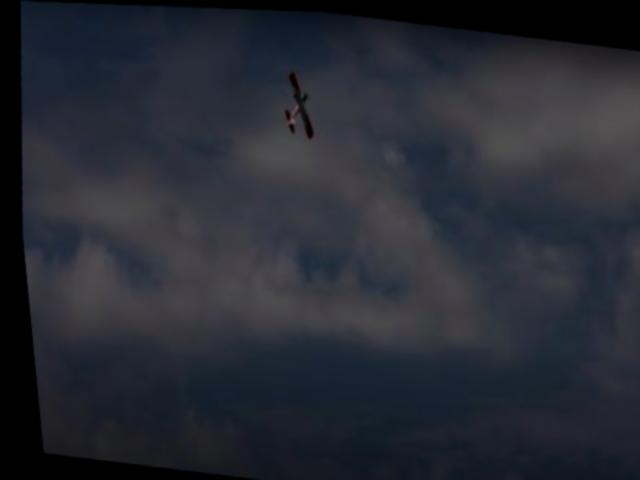uav: (268, 60, 323, 145)
